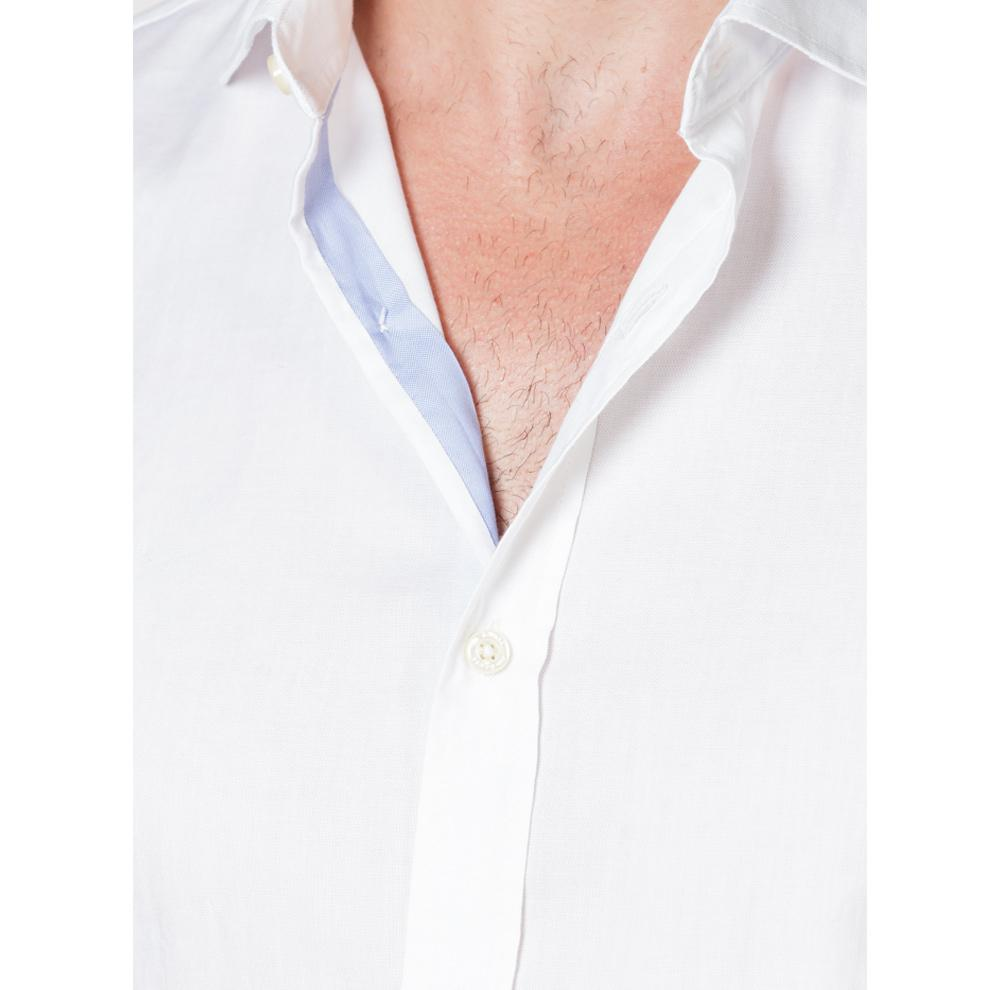teeshirt: (127, 2, 864, 990)
